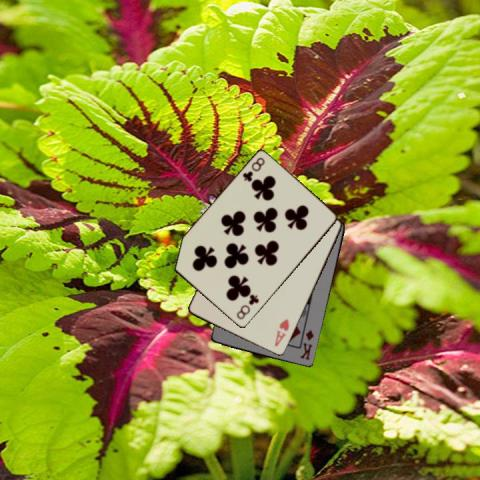8c: (233, 292, 261, 322), (239, 155, 266, 183)
Ah: (271, 316, 291, 348)
Kd: (298, 327, 316, 361)
